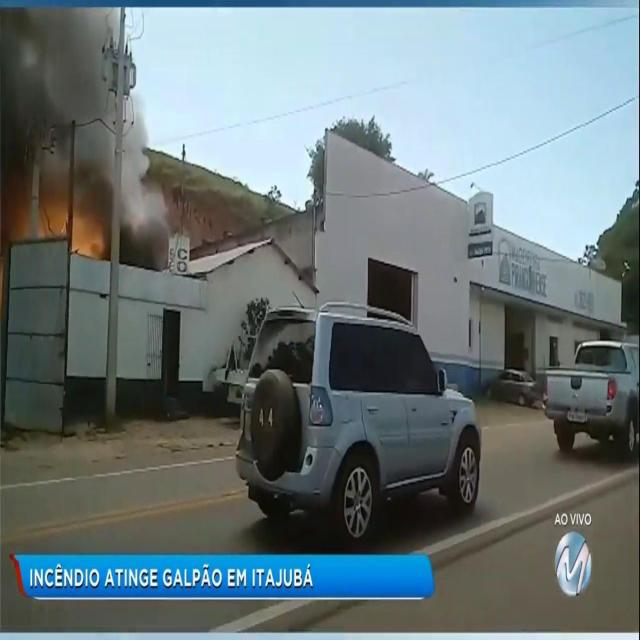Fire: (44, 204, 102, 258)
